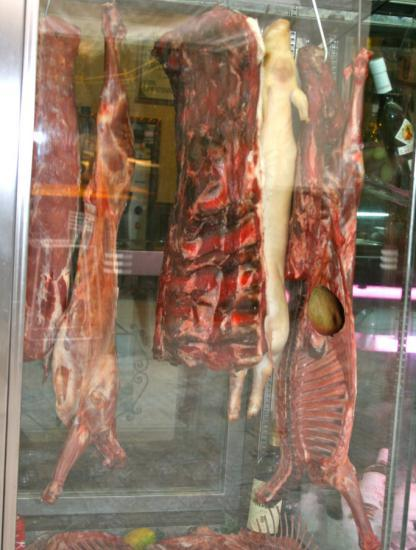Papaya: (299, 285, 352, 338)
